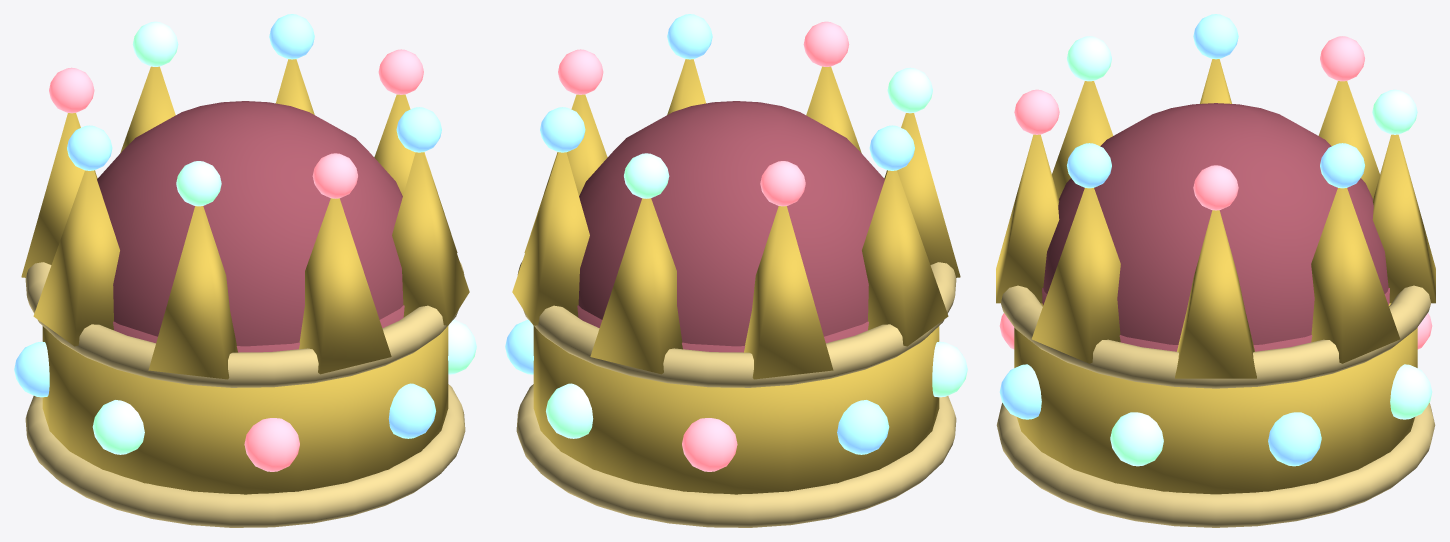
File: crown.glb
3 views of the same model, side by side, from view 1: azimuth 30°, elevation 25°; view 2: azimuth 150°, elevation 25°; view 3: azimuth 270°, elevation 25° (orthographic).
Visible parts, largest first — view 1: CrownDome, CrownBand, CrownTrimBottom, CrownTrimTop, CrownSpike_06, CrownSpike_05, CrownSpike_04, CrownSpike_07, CrownSpike_03, BandJewel_05, BandJewel_04, CrownSpike_00 (+14 smaller); view 2: CrownDome, CrownBand, CrownTrimBottom, CrownTrimTop, CrownSpike_02, CrownSpike_03, CrownSpike_04, CrownSpike_01, CrownSpike_05, BandJewel_02, BandJewel_03, CrownSpike_00 (+14 smaller); view 3: CrownDome, CrownBand, CrownTrimBottom, CrownTrimTop, CrownSpike_01, CrownSpike_07, CrownSpike_00, CrownSpike_02, CrownSpike_06, CrownSpike_03, CrownSpike_05, BandJewel_00 (+13 smaller).
Boxes of the visible parts, x1=… form: CrownDome: x1=97, y1=101, x2=403, y2=346; CrownBand: x1=42, y1=326, x2=448, y2=494; CrownTrimBottom: x1=25, y1=384, x2=465, y2=527; CrownTrimTop: x1=25, y1=261, x2=464, y2=387; CrownSpike_06: x1=299, y1=198, x2=391, y2=374; CrownSpike_05: x1=148, y1=206, x2=237, y2=379; CrownSpike_04: x1=33, y1=170, x2=119, y2=346; CrownSpike_07: x1=392, y1=152, x2=469, y2=325; CrownSpike_03: x1=21, y1=113, x2=97, y2=277; BandJewel_05: x1=244, y1=418, x2=299, y2=471; BandJewel_04: x1=92, y1=400, x2=144, y2=454; CrownSpike_00: x1=374, y1=94, x2=457, y2=252; CrownDome: x1=578, y1=101, x2=884, y2=346; CrownBand: x1=533, y1=326, x2=939, y2=494; CrownTrimBottom: x1=516, y1=384, x2=956, y2=527; CrownTrimTop: x1=517, y1=261, x2=956, y2=387; CrownSpike_02: x1=590, y1=198, x2=682, y2=374; CrownSpike_03: x1=744, y1=206, x2=833, y2=379; CrownSpike_04: x1=862, y1=170, x2=948, y2=346; CrownSpike_01: x1=512, y1=152, x2=589, y2=325; CrownSpike_05: x1=884, y1=113, x2=960, y2=277; BandJewel_02: x1=682, y1=418, x2=737, y2=471; BandJewel_03: x1=837, y1=400, x2=889, y2=454; CrownSpike_00: x1=524, y1=94, x2=607, y2=252; CrownDome: x1=1043, y1=103, x2=1388, y2=344; CrownBand: x1=1014, y1=303, x2=1417, y2=494; CrownTrimBottom: x1=996, y1=403, x2=1435, y2=527; CrownTrimTop: x1=1001, y1=285, x2=1430, y2=388; CrownSpike_01: x1=1311, y1=188, x2=1400, y2=363; CrownSpike_07: x1=1031, y1=188, x2=1120, y2=363; CrownSpike_00: x1=1175, y1=210, x2=1256, y2=378; CrownSpike_02: x1=1372, y1=134, x2=1435, y2=303; CrownSpike_06: x1=996, y1=134, x2=1059, y2=303; CrownSpike_03: x1=1318, y1=81, x2=1379, y2=198; CrownSpike_05: x1=1052, y1=81, x2=1113, y2=198; BandJewel_00: x1=1268, y1=412, x2=1321, y2=466.
Size of the model in its own units: 0.8726 by 0.77 by 0.8726.
